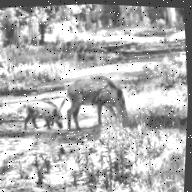boar: (61, 63, 137, 136), (22, 90, 69, 134)
